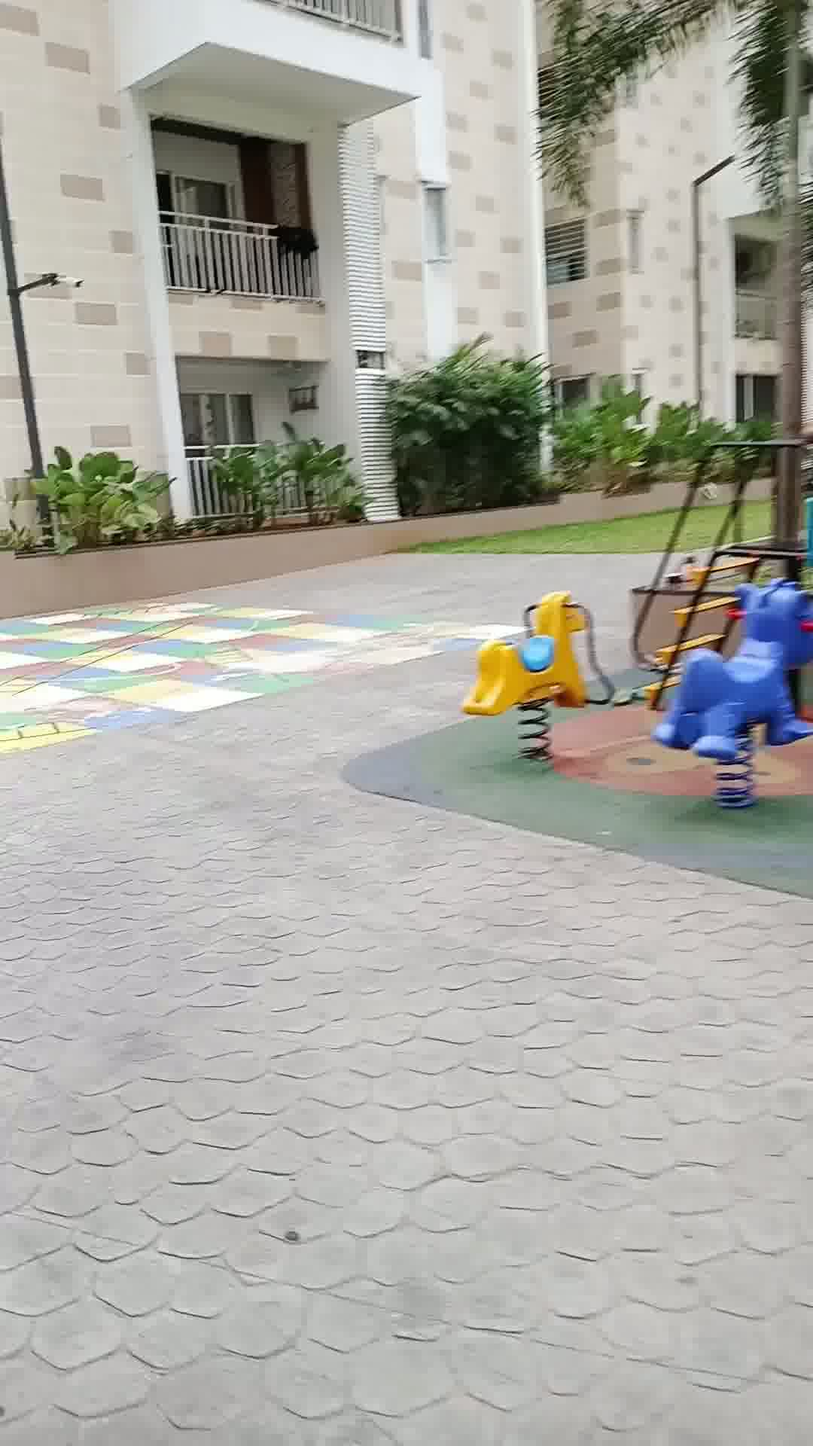tree: (532, 0, 813, 592)
